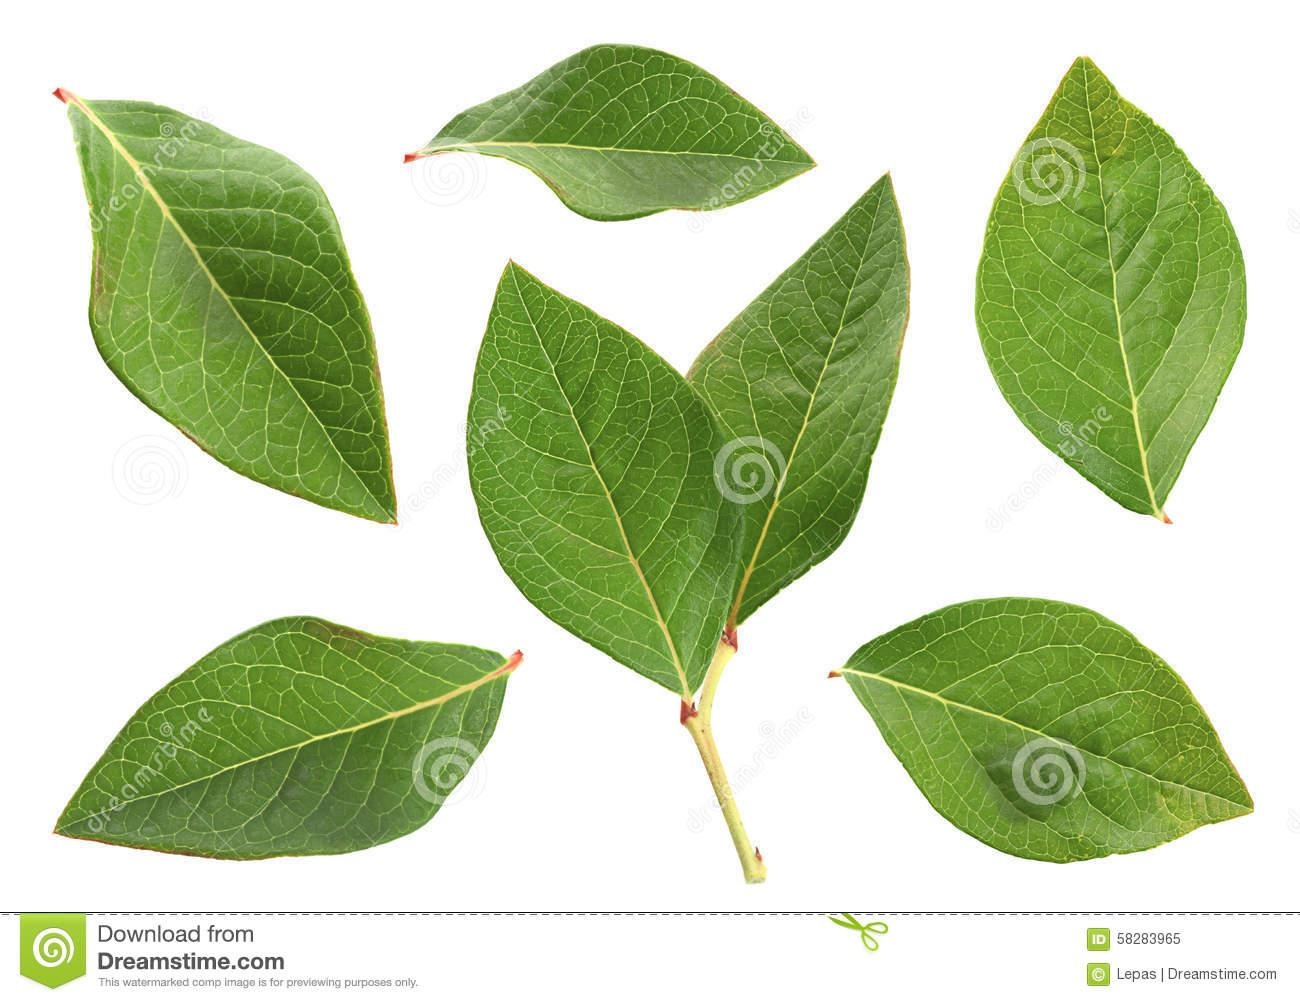Blueberry leaf: (49, 85, 423, 555), (975, 29, 1272, 559), (460, 201, 728, 699), (820, 580, 1275, 871), (58, 609, 544, 874), (686, 141, 937, 626), (418, 26, 834, 240)
